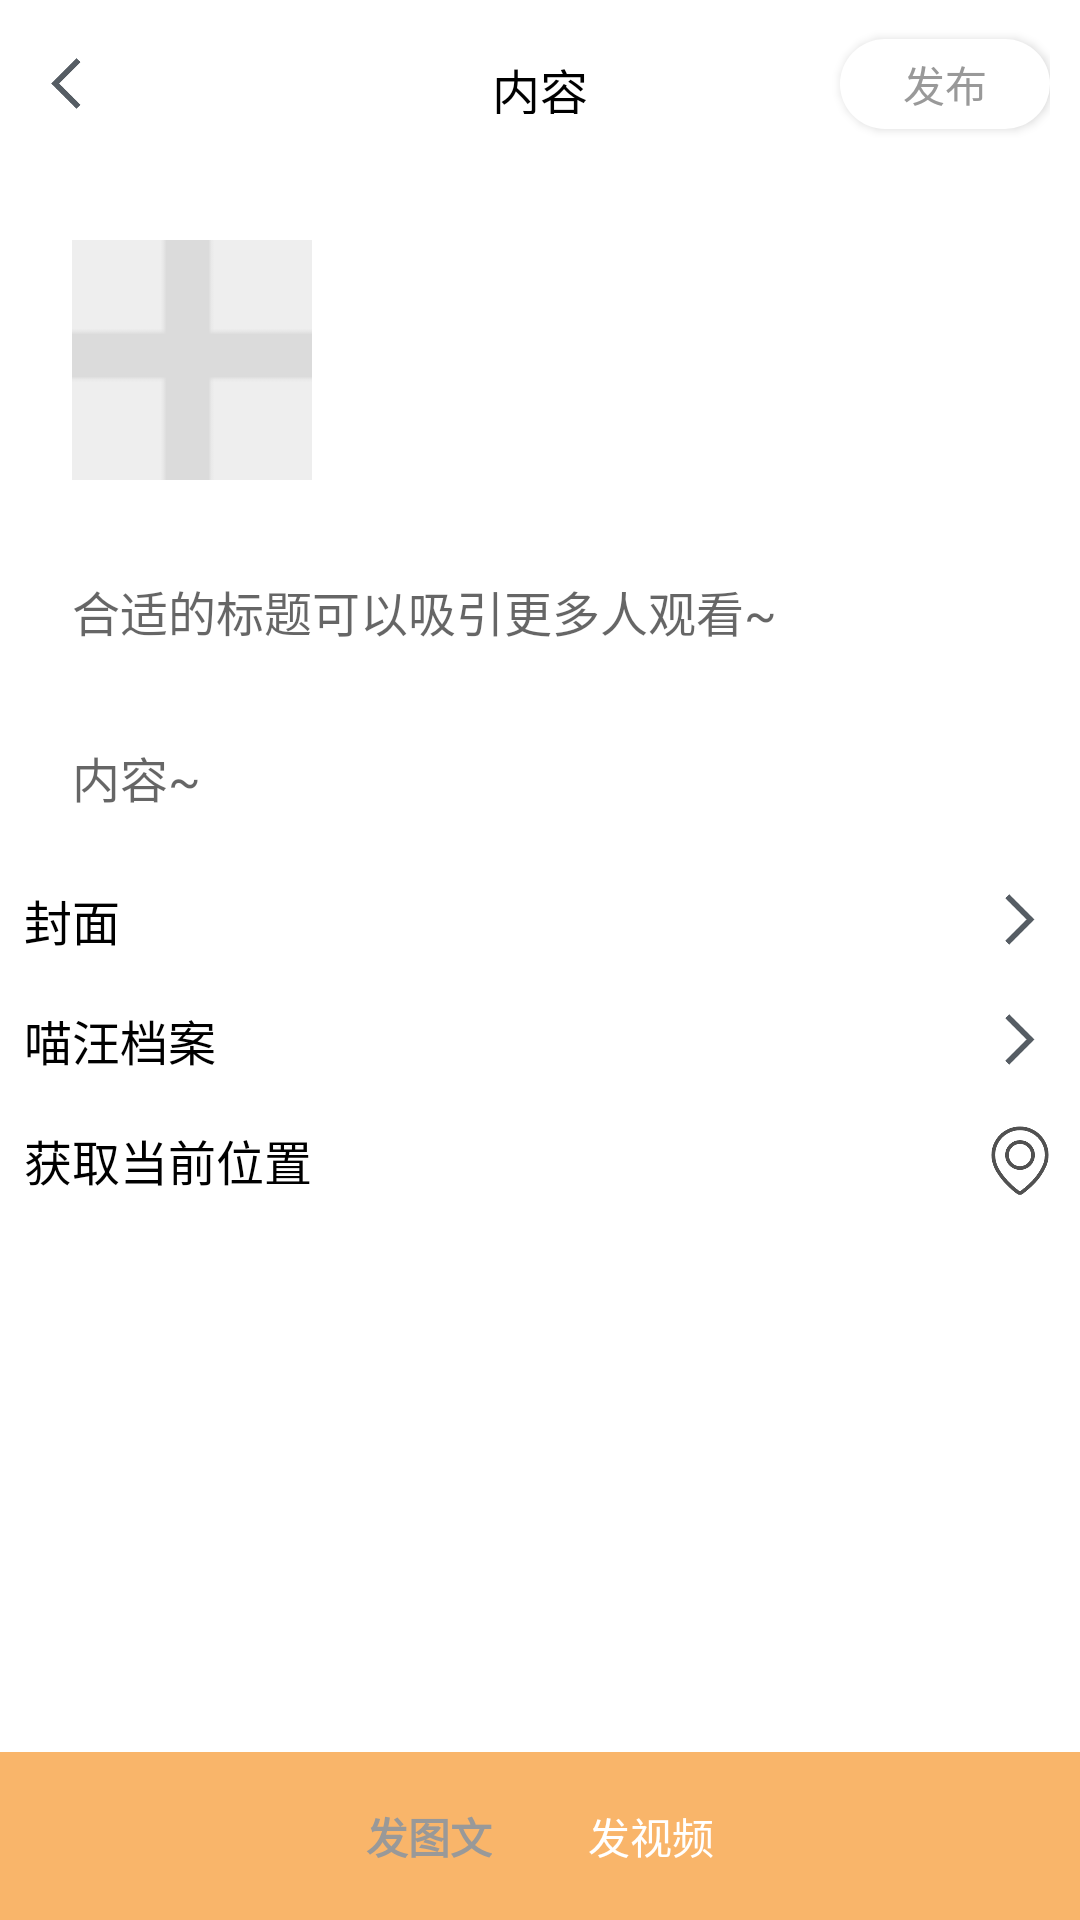

Locate icon controls on the screen. Image size 1080 x 1920, boxes as box=[x1, y1, x2, y2].
address: box=[991, 1126, 1049, 1195]
arrow right: box=[1005, 894, 1035, 945], box=[1005, 1014, 1035, 1065]
back: box=[51, 58, 80, 109]
